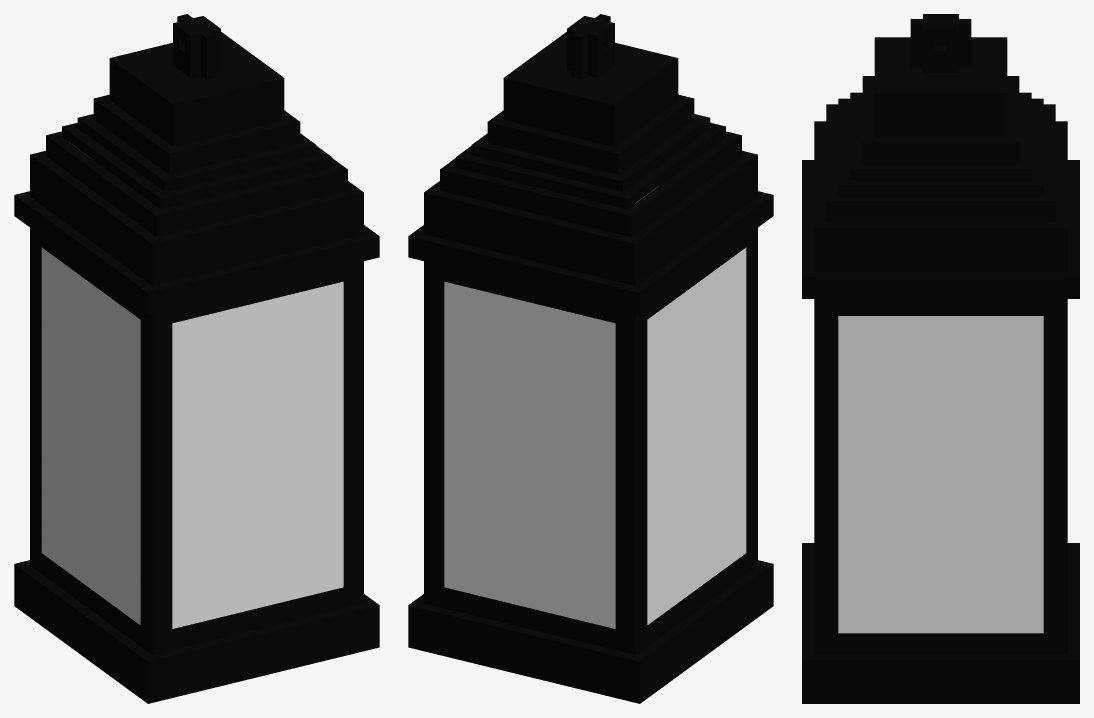
File: Lantern.obj
3 views of the same model, side by side, from view 1: azimuth 30°, elevation 25°; view 2: azimuth 150°, elevation 25°; view 3: azimuth 270°, elevation 25° (orthographic). The views are drawn at different scales.
Visible parts, largest first — view 1: 立方体; view 2: 立方体; view 3: 立方体.
Boxes of the visible parts, x1,y1,x2,y2 form: 立方体: [14, 14, 379, 703]; 立方体: [408, 14, 773, 703]; 立方体: [802, 14, 1079, 703].
Size of the model in its own units: 0.791 by 1.96 by 0.791.
